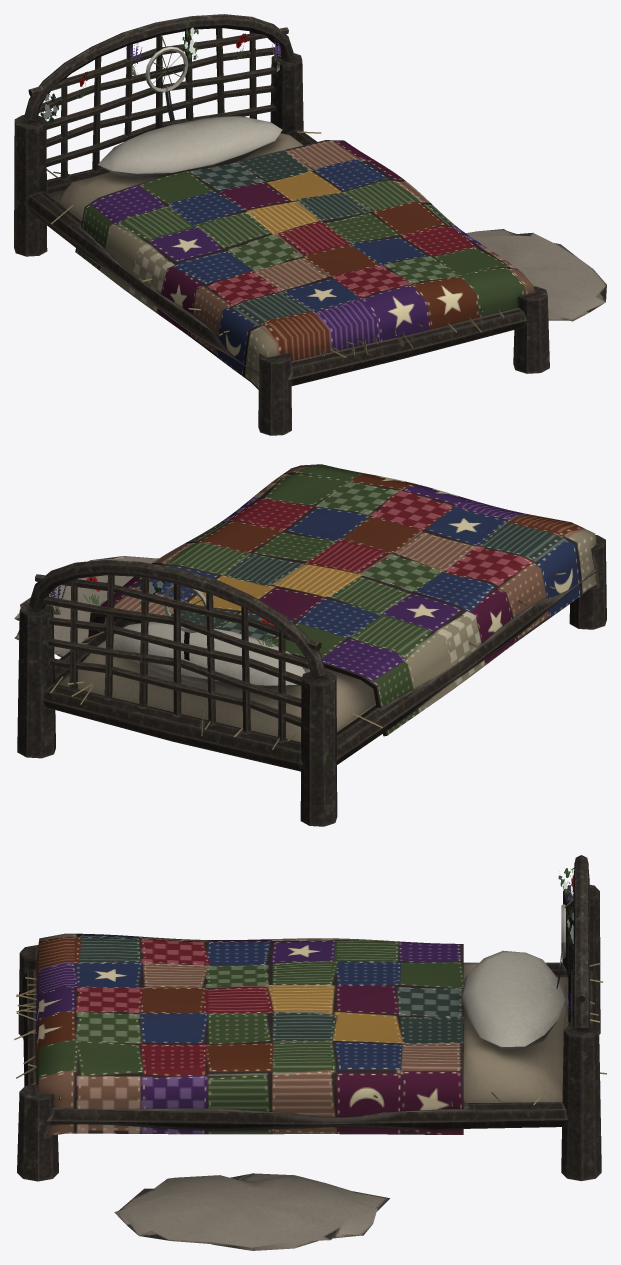
The model's file is StrawBed.fbx.
3 renders of one model, top to bottom at view 1: azimuth 30°, elevation 25°; view 2: azimuth 150°, elevation 25°; view 3: azimuth 270°, elevation 25°, orthographic. The views are drawn at different scales.
Visible parts, largest first — view 1: StrawBed_Main, StrawBed_Leaves; view 2: StrawBed_Main, StrawBed_Leaves; view 3: StrawBed_Main, StrawBed_Leaves.
Part boxes in pixels (left/top/right/bottom): StrawBed_Main: left=14, top=14, right=606, bottom=435; StrawBed_Leaves: left=40, top=27, right=280, bottom=123; StrawBed_Main: left=14, top=464, right=606, bottom=826; StrawBed_Leaves: left=48, top=576, right=306, bottom=672; StrawBed_Main: left=14, top=855, right=606, bottom=1250; StrawBed_Leaves: left=558, top=867, right=574, bottom=1024.
Size of the model in its own units: 753 by 337 by 829.
